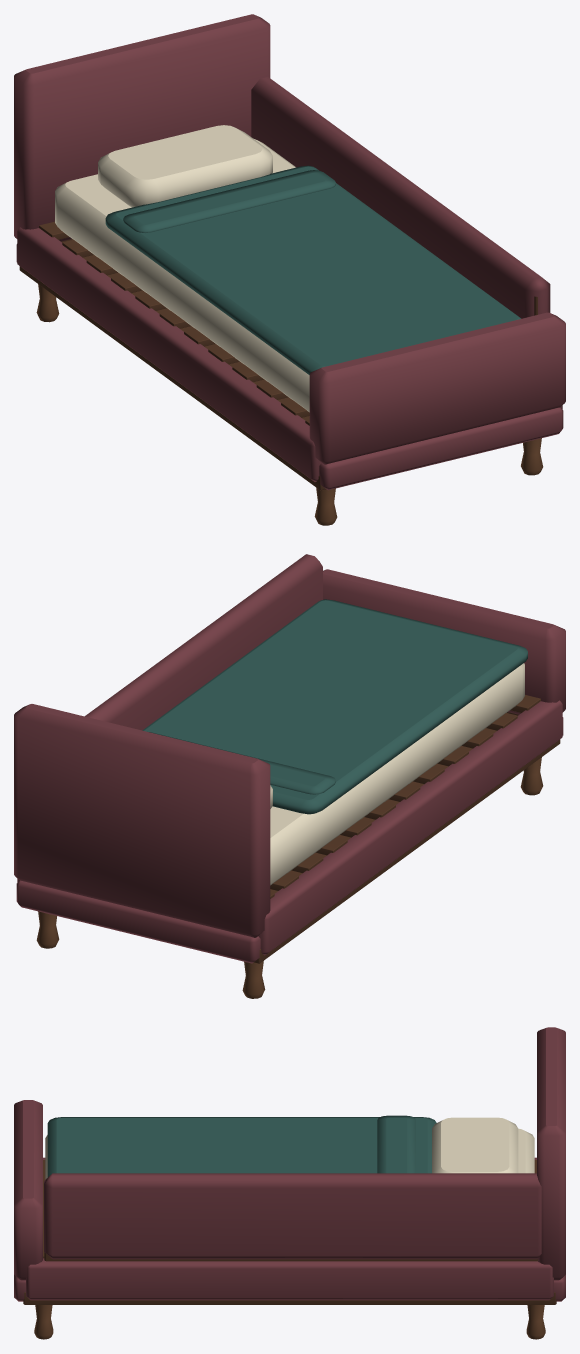
Rendered from rpg-mansion-upholstered-divan-bed-01.glb.
3 renders of one model, top to bottom at view 1: azimuth 30°, elevation 25°; view 2: azimuth 150°, elevation 25°; view 3: azimuth 270°, elevation 25°, orthographic. The views are drawn at different scales.
Visible parts, largest first — view 1: rpg-mansion-upholstered-divan-bed-01; view 2: rpg-mansion-upholstered-divan-bed-01; view 3: rpg-mansion-upholstered-divan-bed-01.
Part boxes in pixels (x1,y1,x2,y2): rpg-mansion-upholstered-divan-bed-01: [14, 14, 565, 525]; rpg-mansion-upholstered-divan-bed-01: [14, 554, 565, 998]; rpg-mansion-upholstered-divan-bed-01: [14, 1027, 565, 1339].
Size of the model in its own units: 1 by 0.92 by 2.14.
